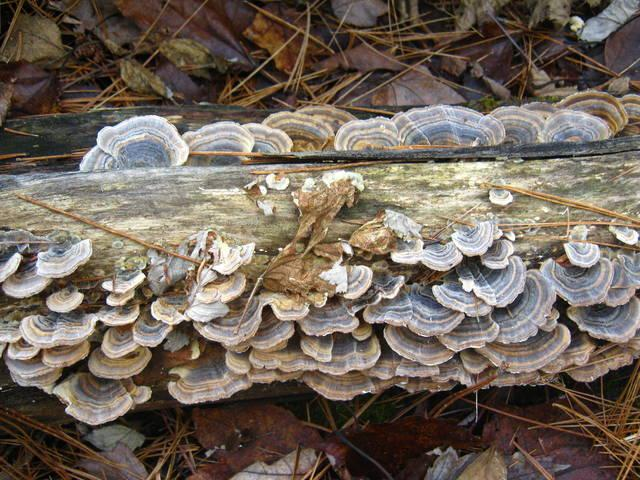poisonous_mushroom: (0, 88, 639, 426), (77, 113, 189, 172)
